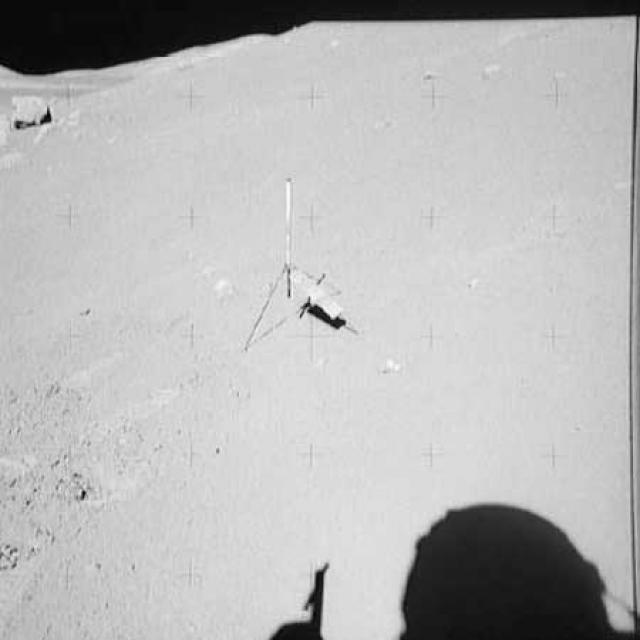artifact: (224, 168, 360, 350)
rock: (1, 90, 59, 134)
